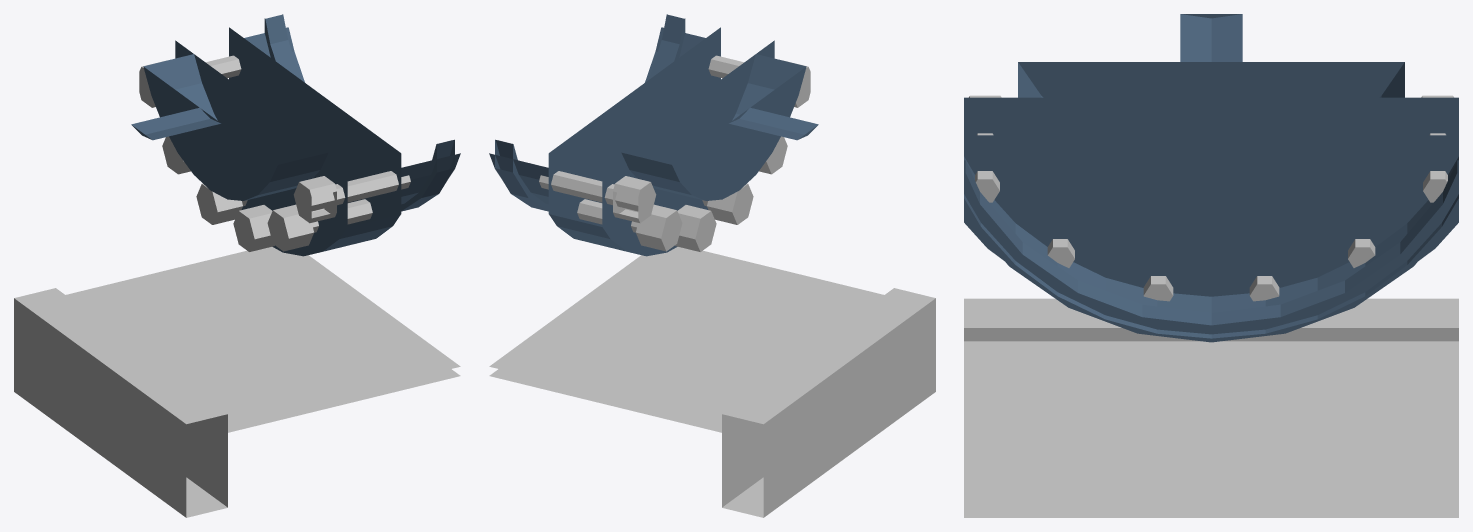
Rendered from cell_9.obj.
3 views of the same model, side by side, from view 1: azimuth 30°, elevation 25°; view 2: azimuth 150°, elevation 25°; view 3: azimuth 270°, elevation 25° (orthographic). The views are drawn at different scales.
Size of the model in its own units: 0.92 by 1 by 1.
